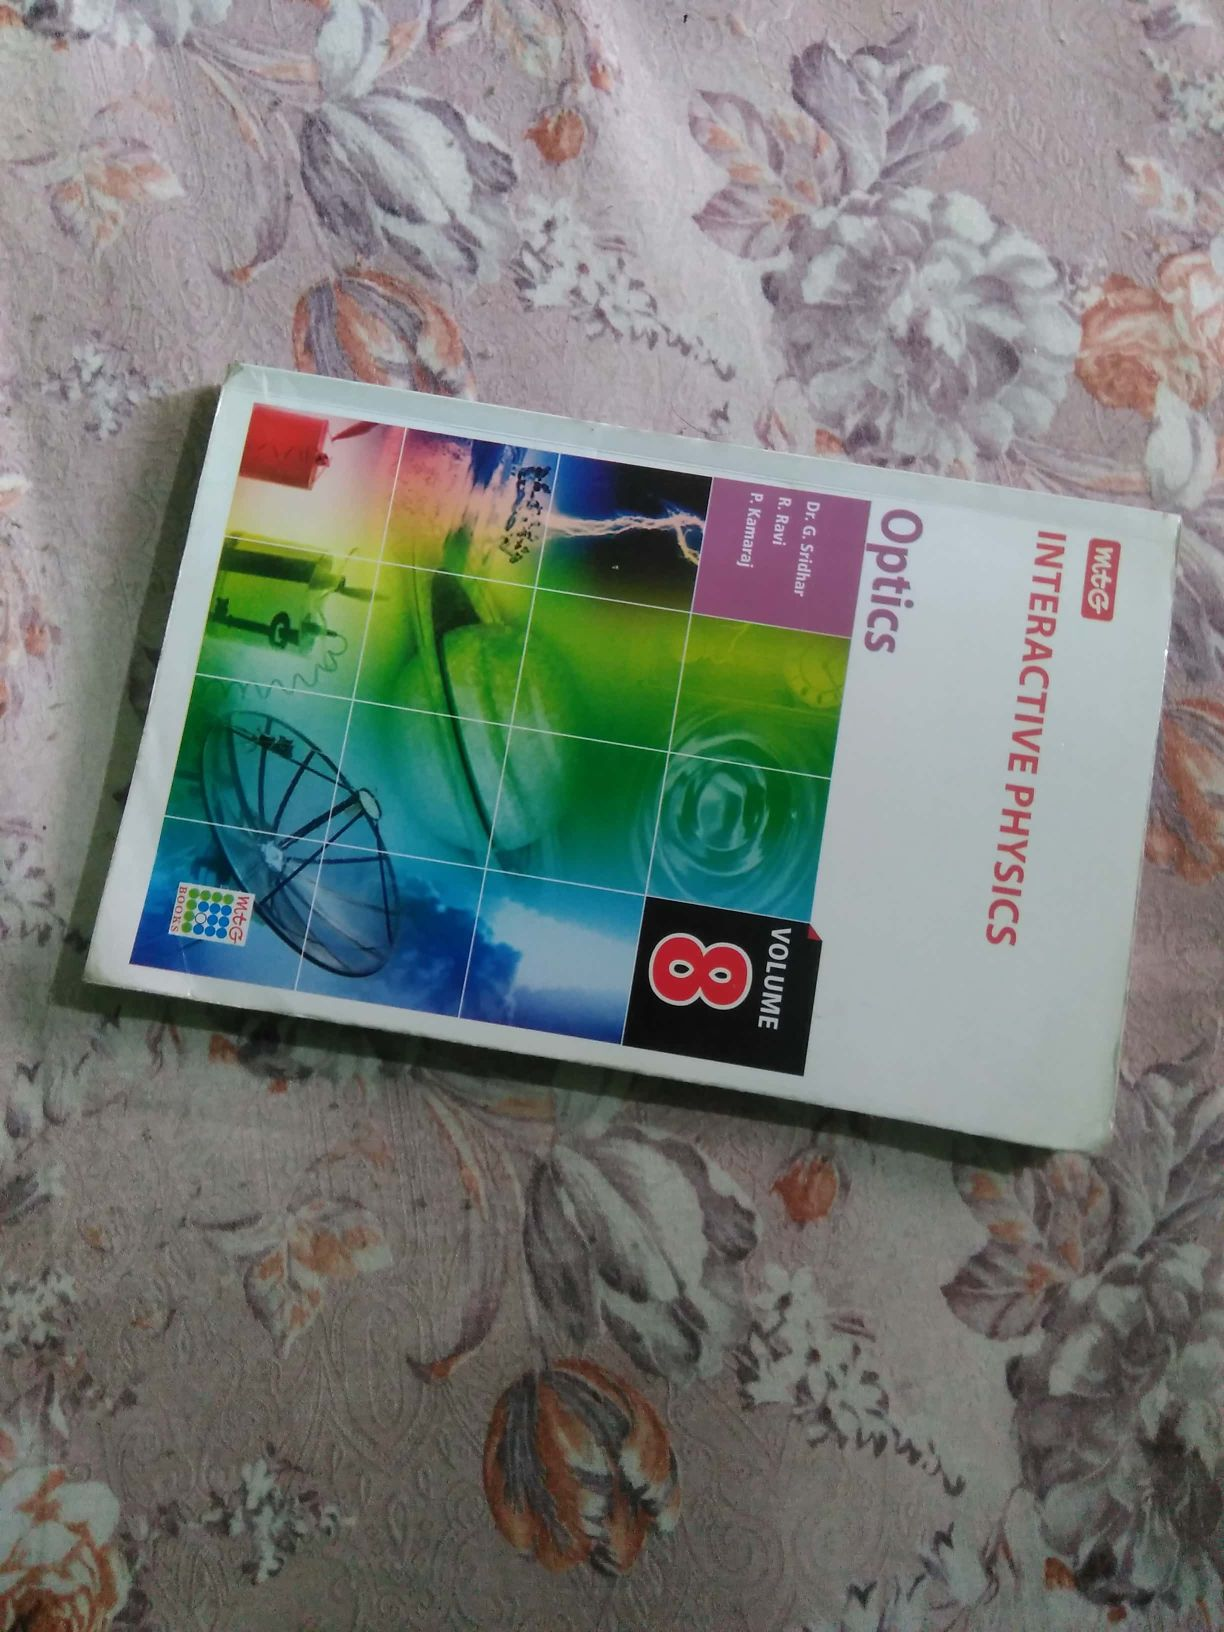optics: (80, 319, 1175, 1354)
